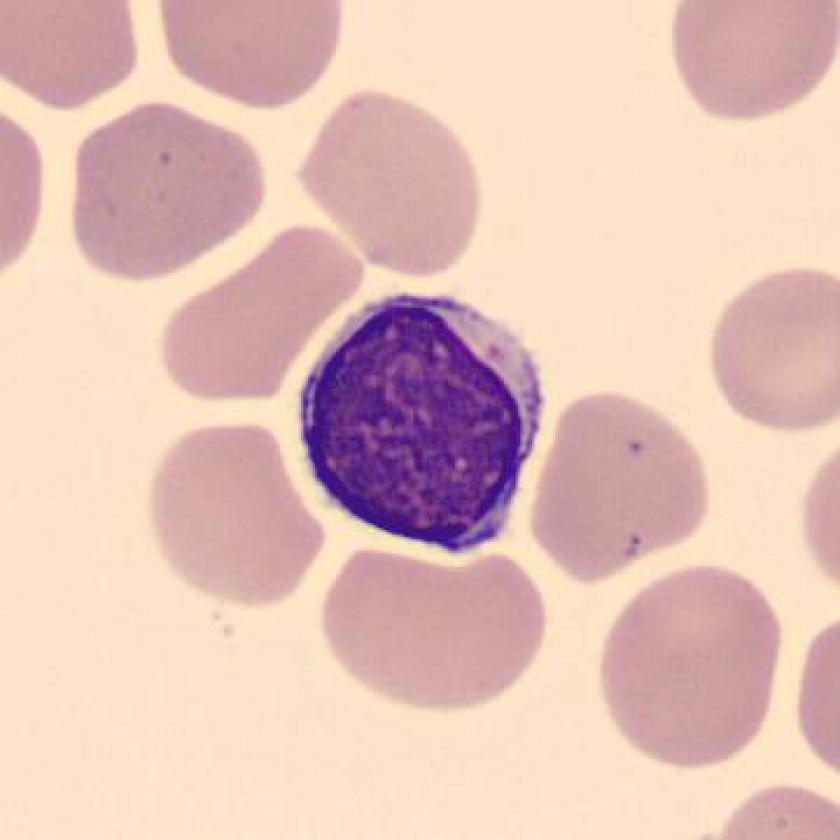lymphocyte: (283, 279, 566, 570)
